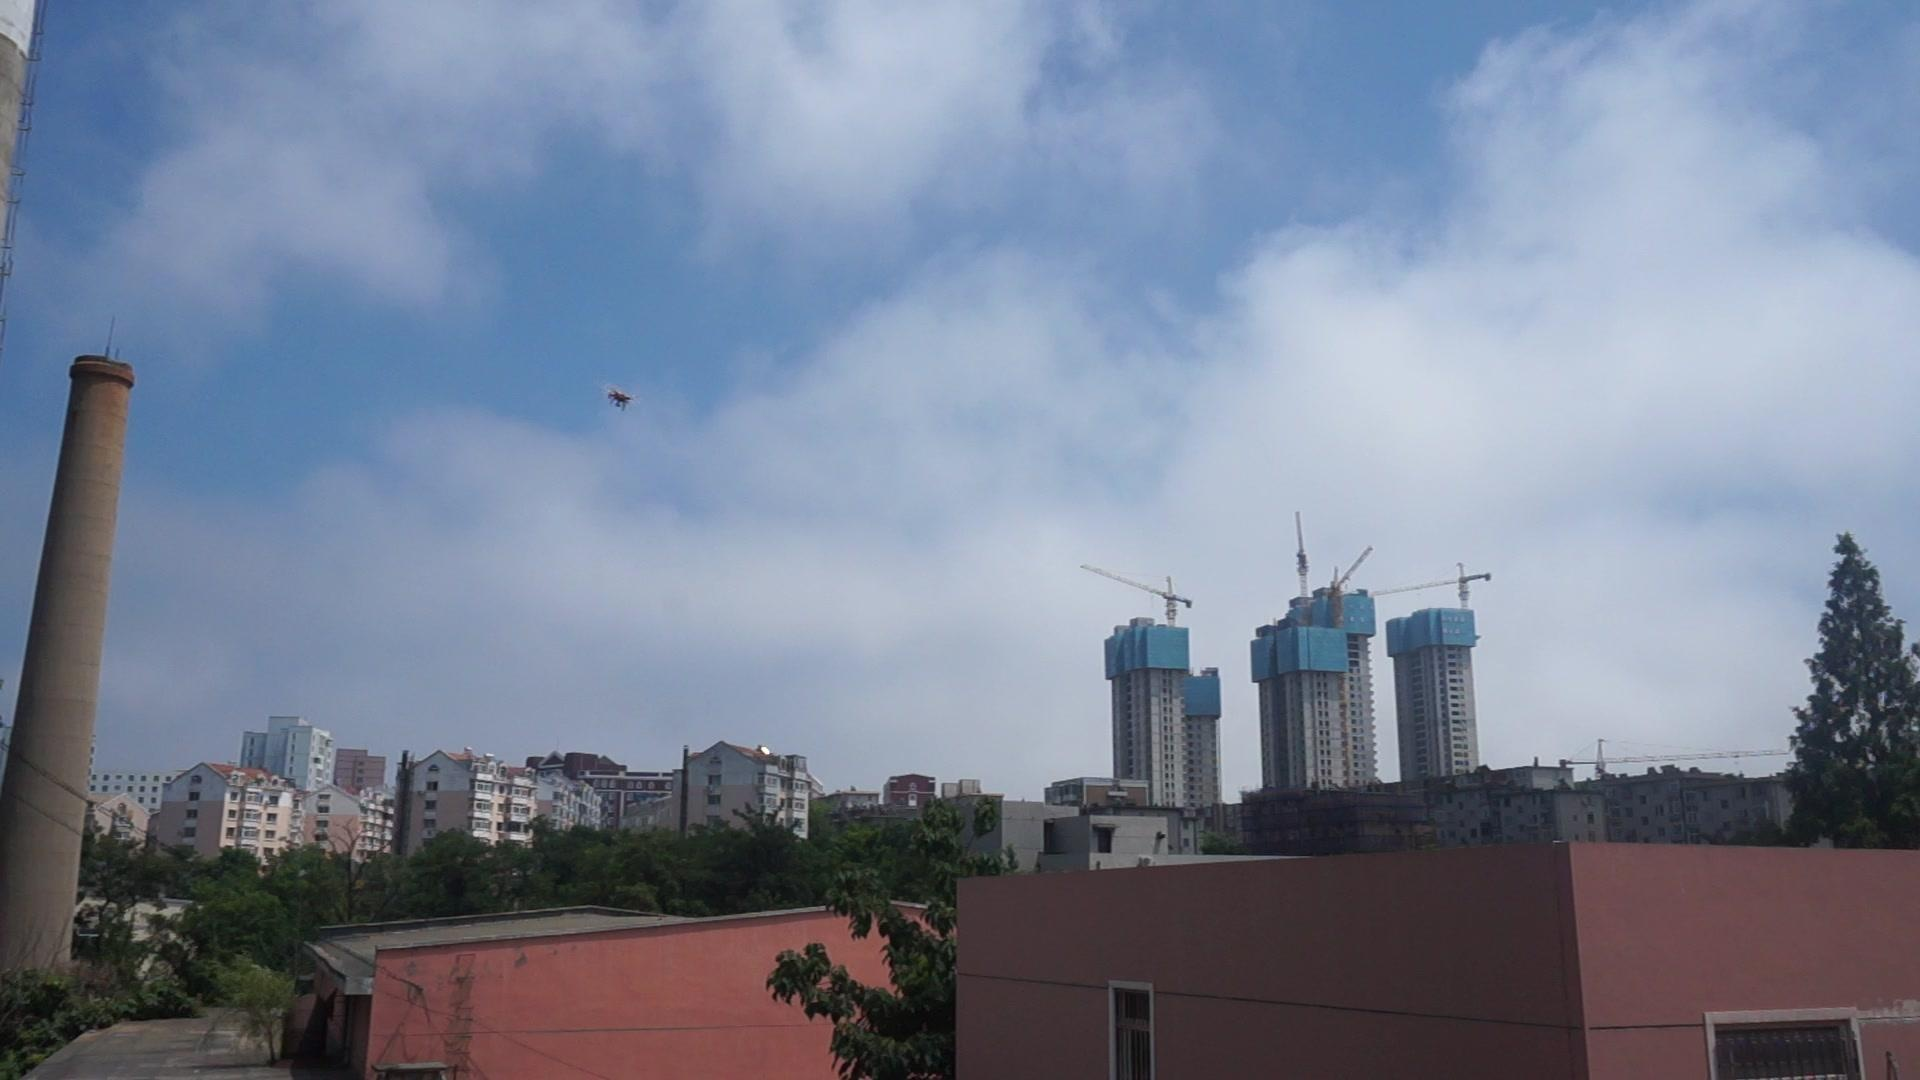UAV: (603, 382, 640, 411)
